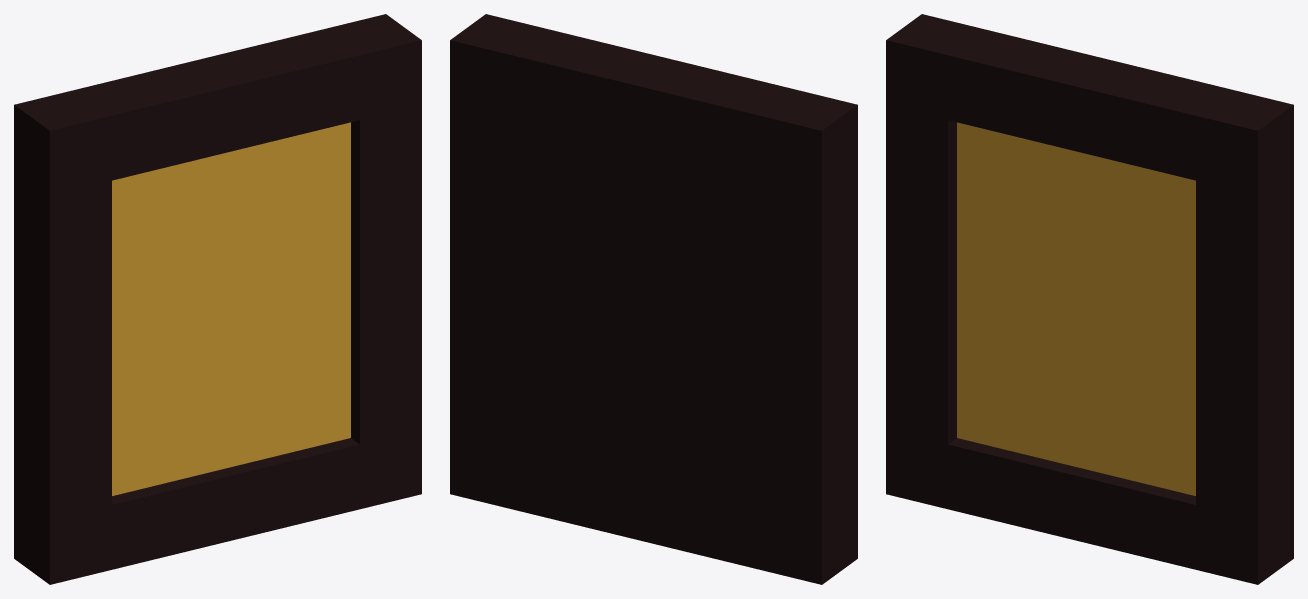
The model's file is painting_yellow.dae.
The picture shows the model from 3 angles, left to right: view 1: azimuth 30°, elevation 25°; view 2: azimuth 150°, elevation 25°; view 3: azimuth 330°, elevation 25°; orthographic projection.
Parts seen in each view (by area): view 1: painting1_MSH; view 2: painting1_MSH; view 3: painting1_MSH.
Part boxes in pixels (x1,y1,x2,y2): painting1_MSH: [14, 14, 421, 584]; painting1_MSH: [450, 14, 857, 584]; painting1_MSH: [886, 14, 1293, 584].
Size of the model in its own units: 0.75 by 0.875 by 0.125.
